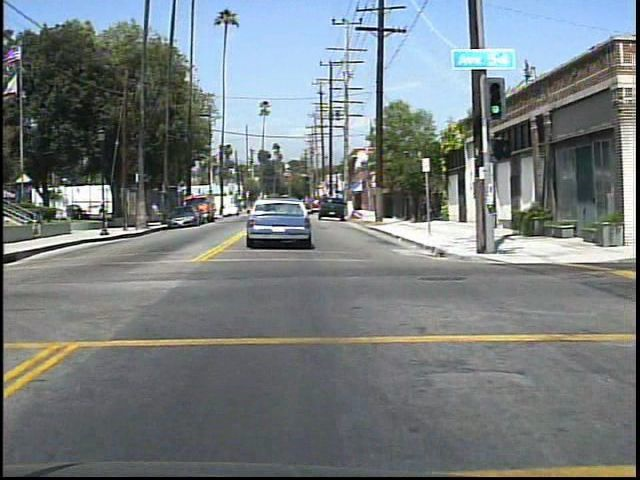person: (152, 205, 166, 230), (120, 194, 132, 218), (99, 198, 107, 220)
